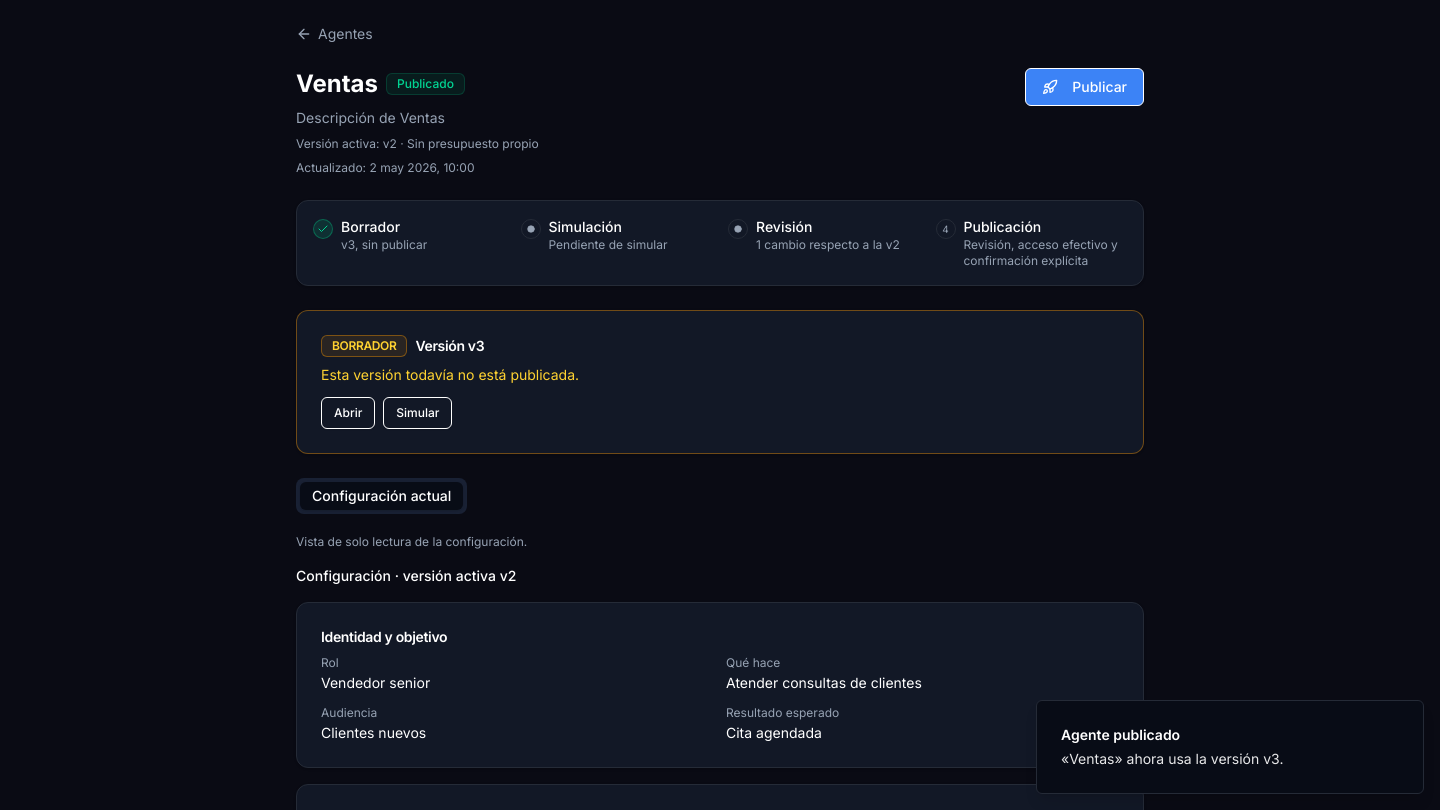
Test case: publicación › si el backend rechaza la publicación (422) muestra la lista de problemas y el diálogo sigue abierto
Click the button with test id "publish-agent-button". click: (1085, 87)
box: 1025,68 -> 1144,106
(page scrolled)
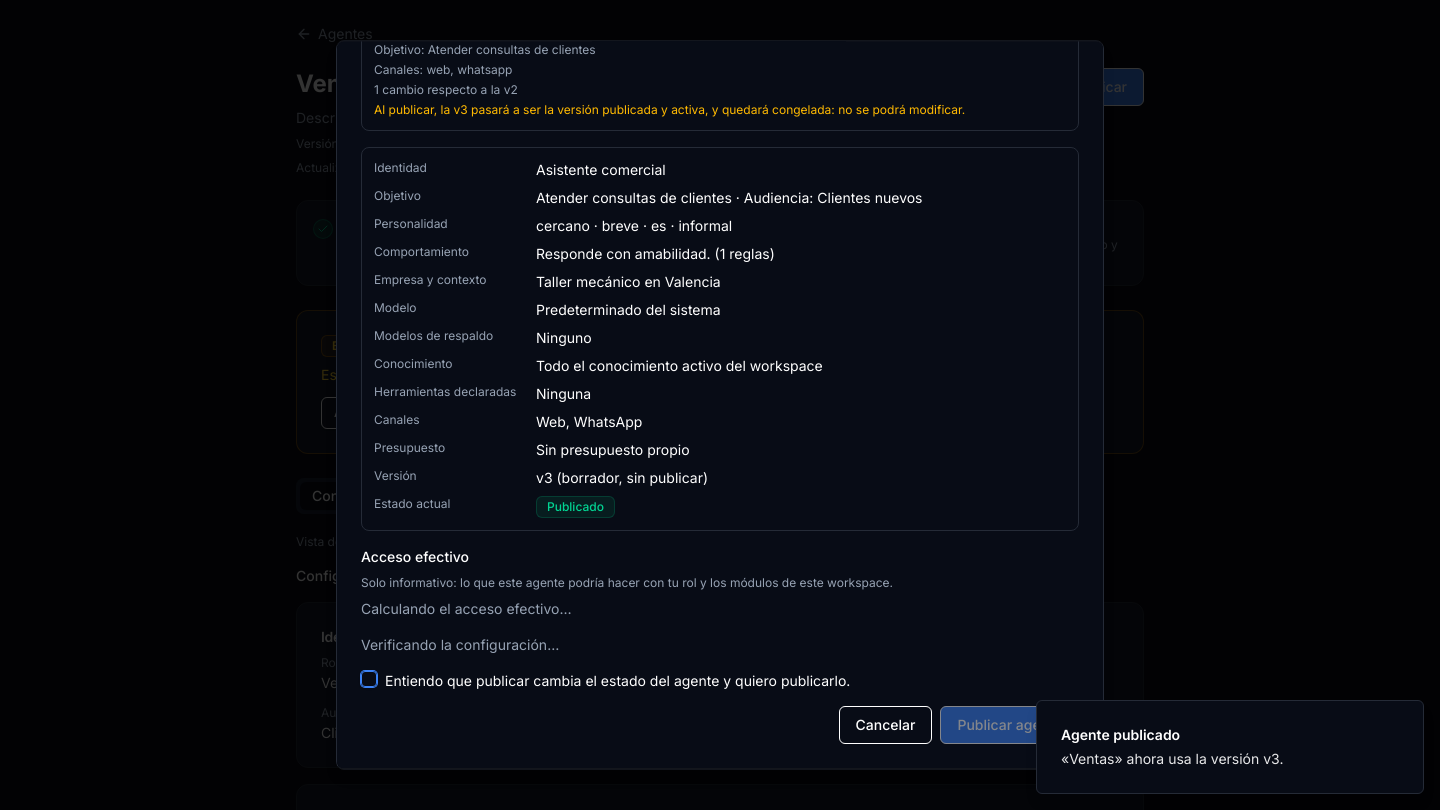
Click the checkbox. click: (369, 680)
box: 361,672 -> 377,688
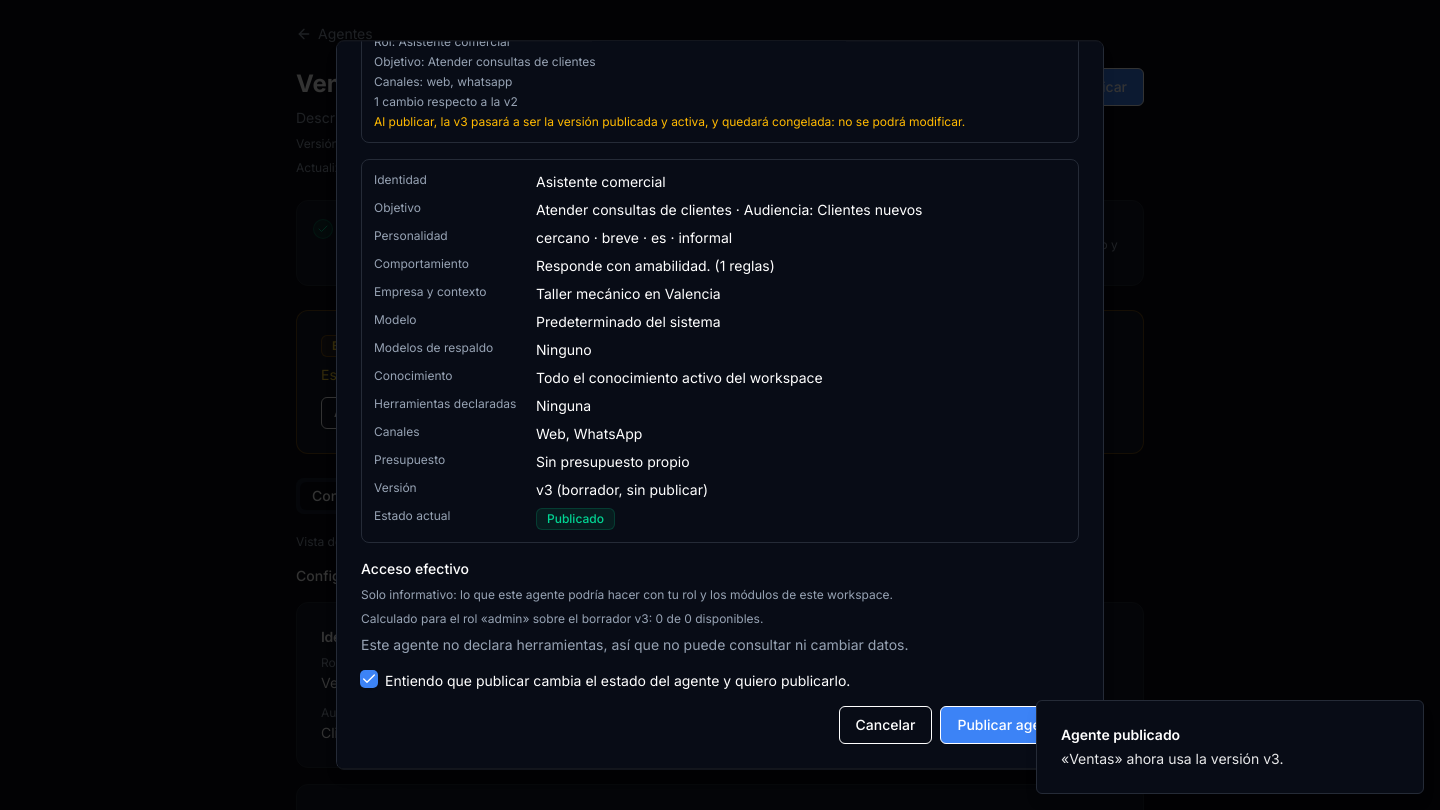
Click the button with test id "publish-confirm-button". click: (1010, 726)
box: 940,707 -> 1079,745
(page scrolled)
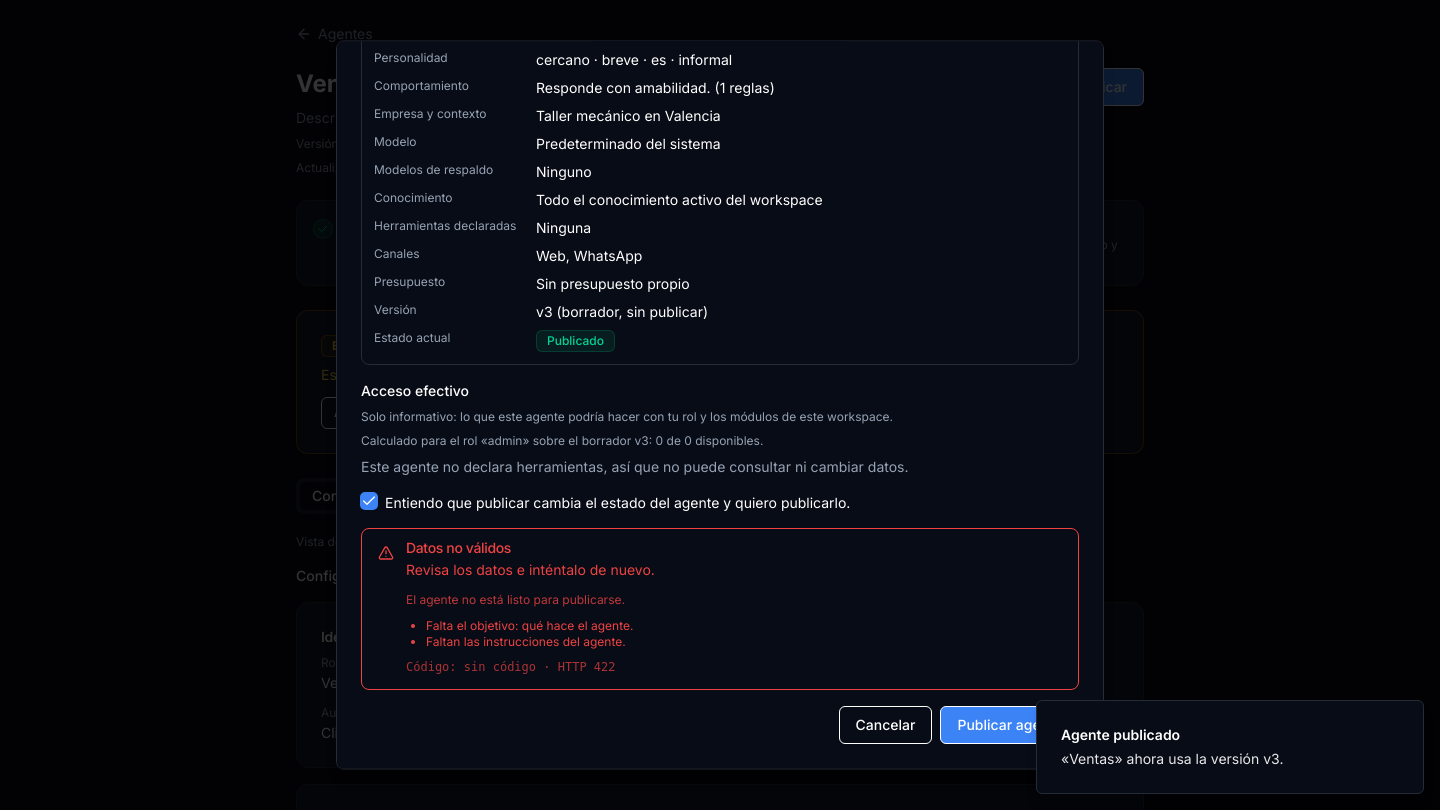
Expected: the list with test id "error-problems" shows "Falta el objetivo", 426,618 -> 633,633
Expected: the list with test id "error-problems" shows "Faltan las instrucciones", 426,634 -> 626,649
Expected: the text with test id "error-technical" shows "HTTP 422", 406,660 -> 616,674
